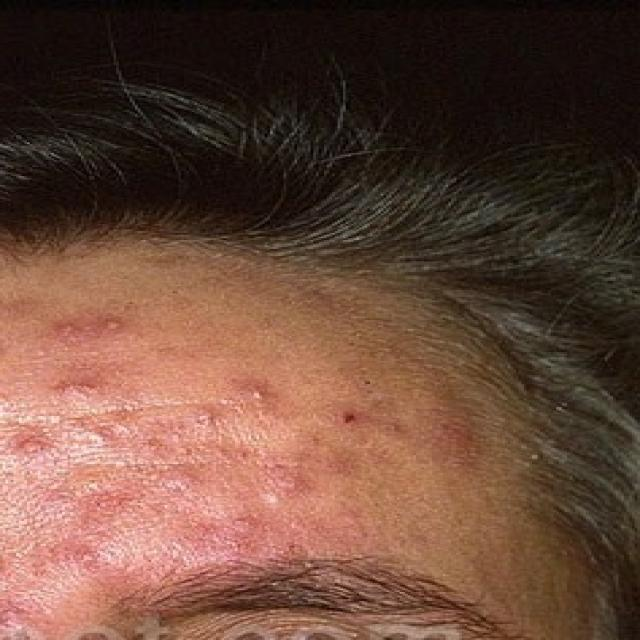Rosacea: (14, 325, 346, 559)
